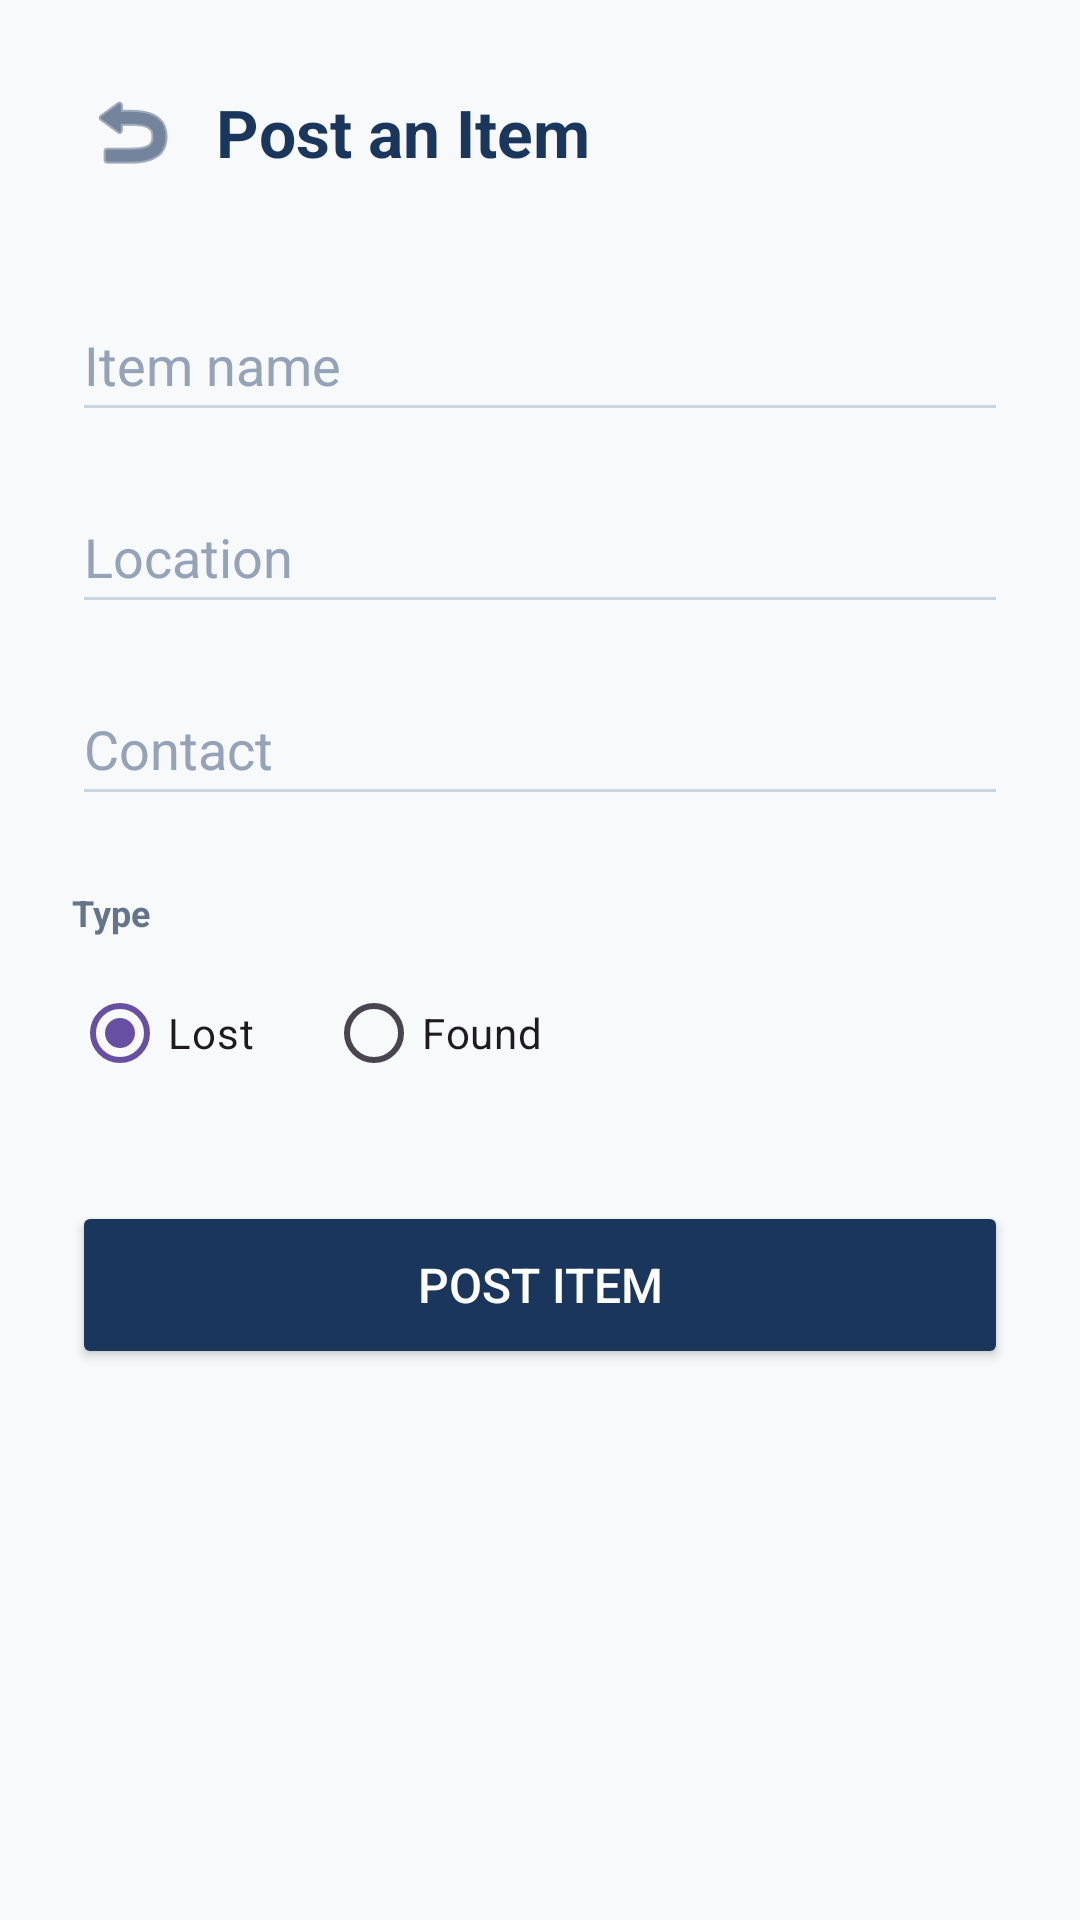

Where to tap for icons on this 1080x1920 app screen, as [x,y]:
Go back: [133,132]
